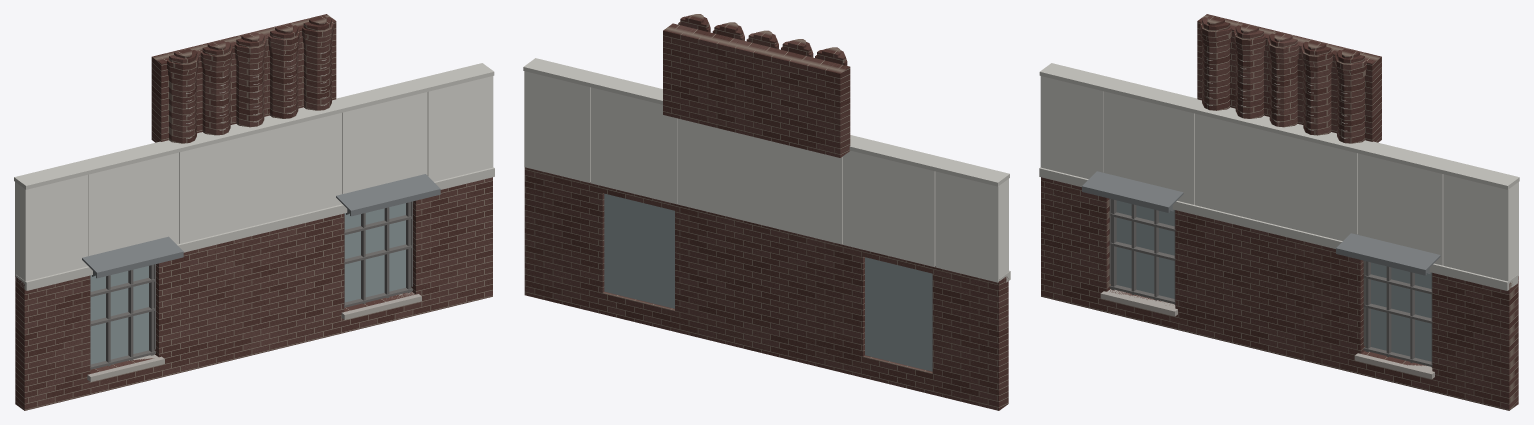
File: dixwell-parapet-near.glb
The picture shows the model from 3 angles, left to right: view 1: azimuth 30°, elevation 25°; view 2: azimuth 150°, elevation 25°; view 3: azimuth 330°, elevation 25°; orthographic projection.
Parts seen in each view (by area): view 1: 狄思威公寓四川北路砖砌女儿墙冠与窗檐; view 2: 狄思威公寓四川北路砖砌女儿墙冠与窗檐; view 3: 狄思威公寓四川北路砖砌女儿墙冠与窗檐.
Part boxes in pixels (x1,y1,x2,y2): 狄思威公寓四川北路砖砌女儿墙冠与窗檐: (14, 14, 494, 410); 狄思威公寓四川北路砖砌女儿墙冠与窗檐: (523, 14, 1010, 410); 狄思威公寓四川北路砖砌女儿墙冠与窗檐: (1039, 14, 1519, 410).
Bounding box in the file's own units: 6.72 × 4.29 × 0.875.
Materials: 8 (1 with a texture image).
